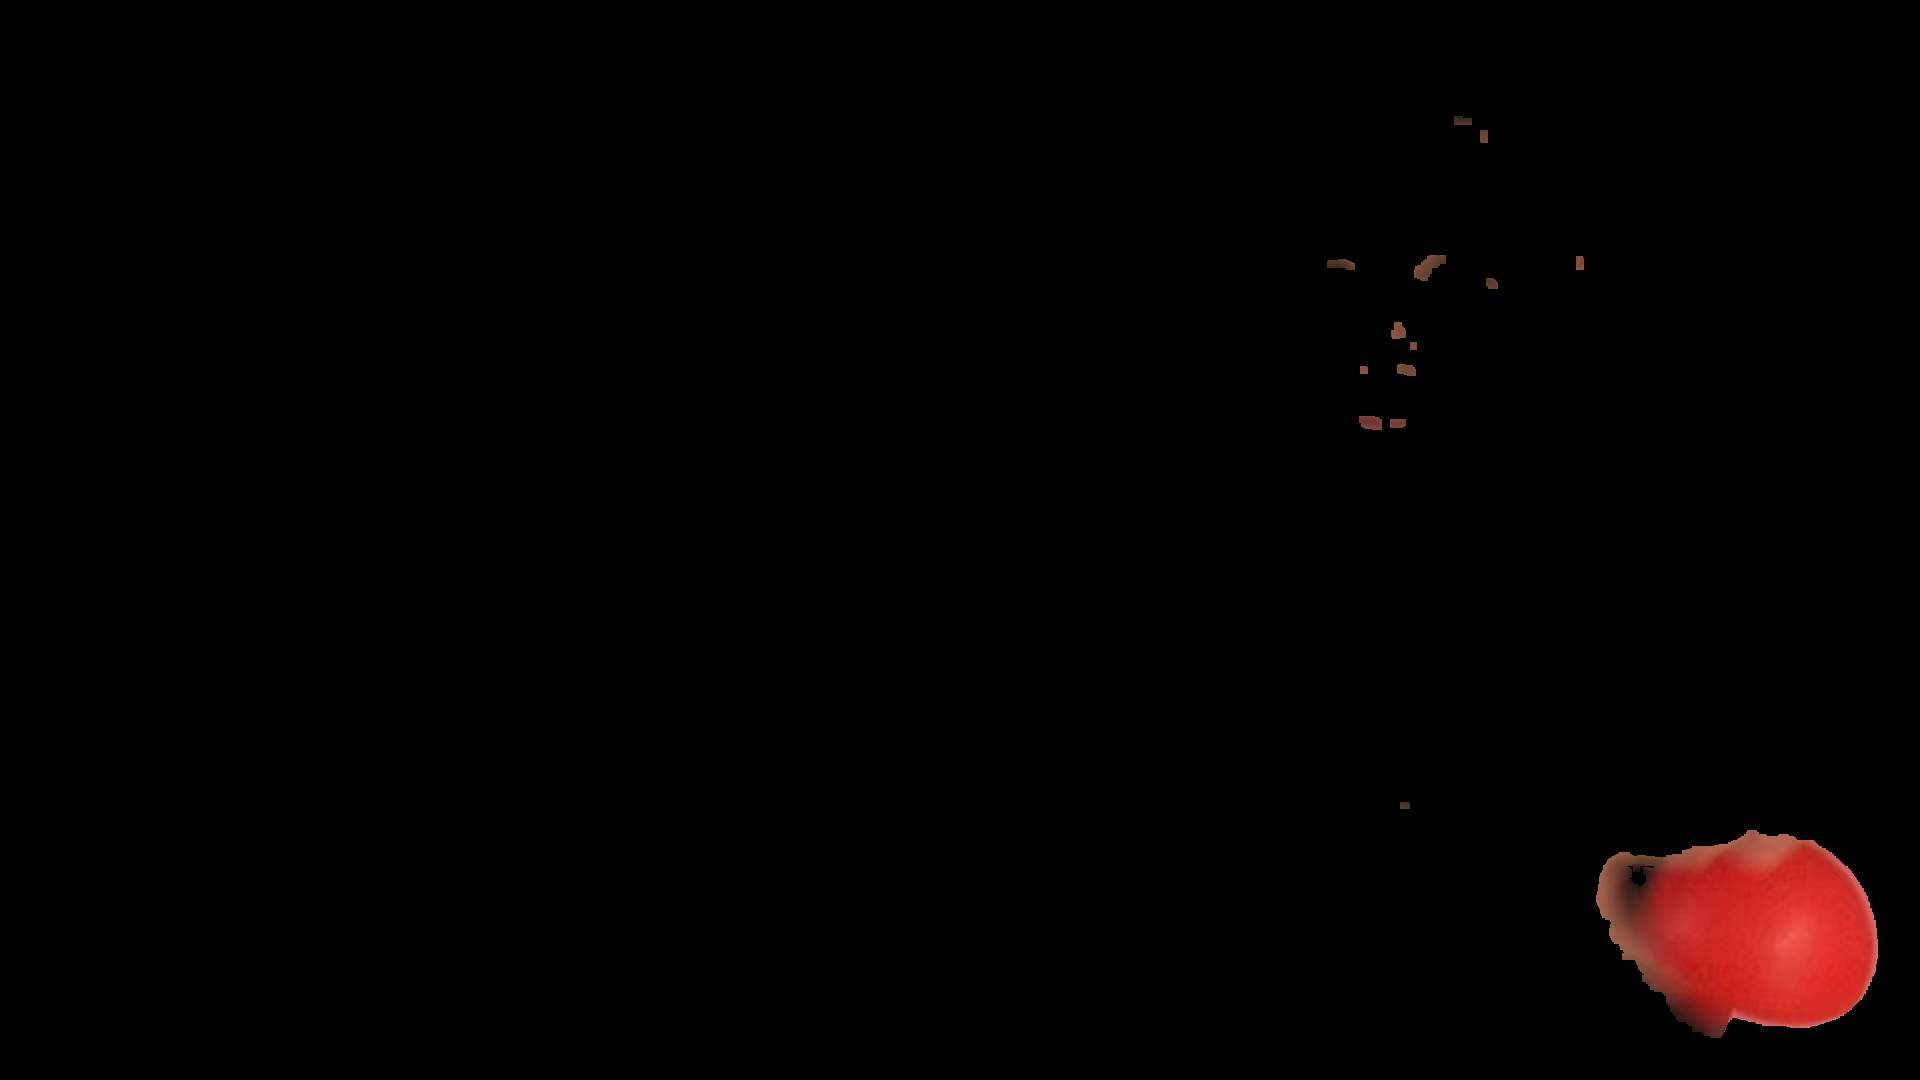Ball: (1654, 825, 1874, 1035)
